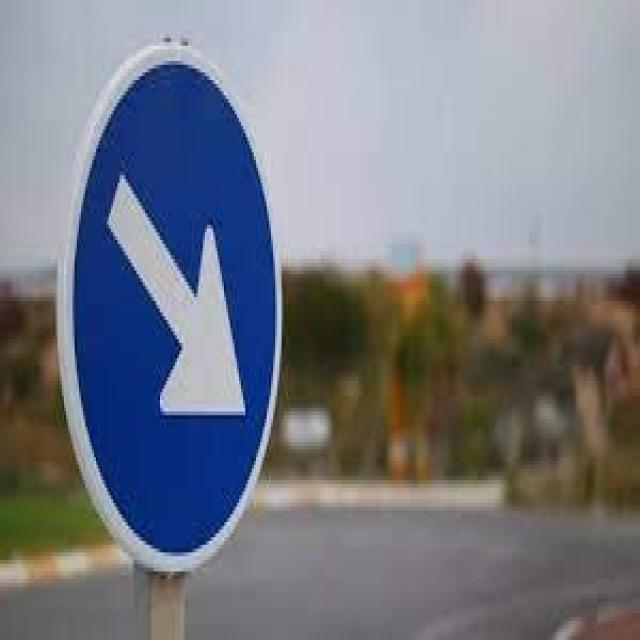compulsory_keep_right: (56, 41, 292, 577)
